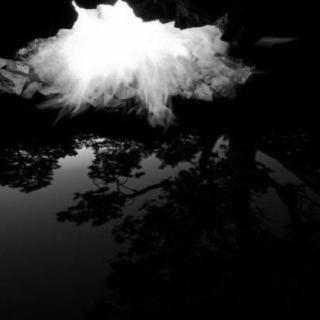Fire: (16, 12, 277, 152)
